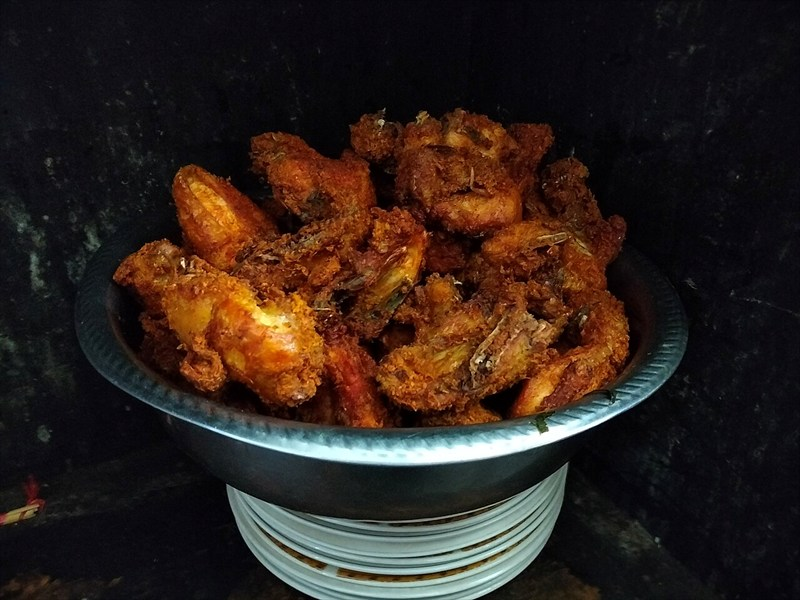Ayam Goreng: (157, 154, 618, 588)
